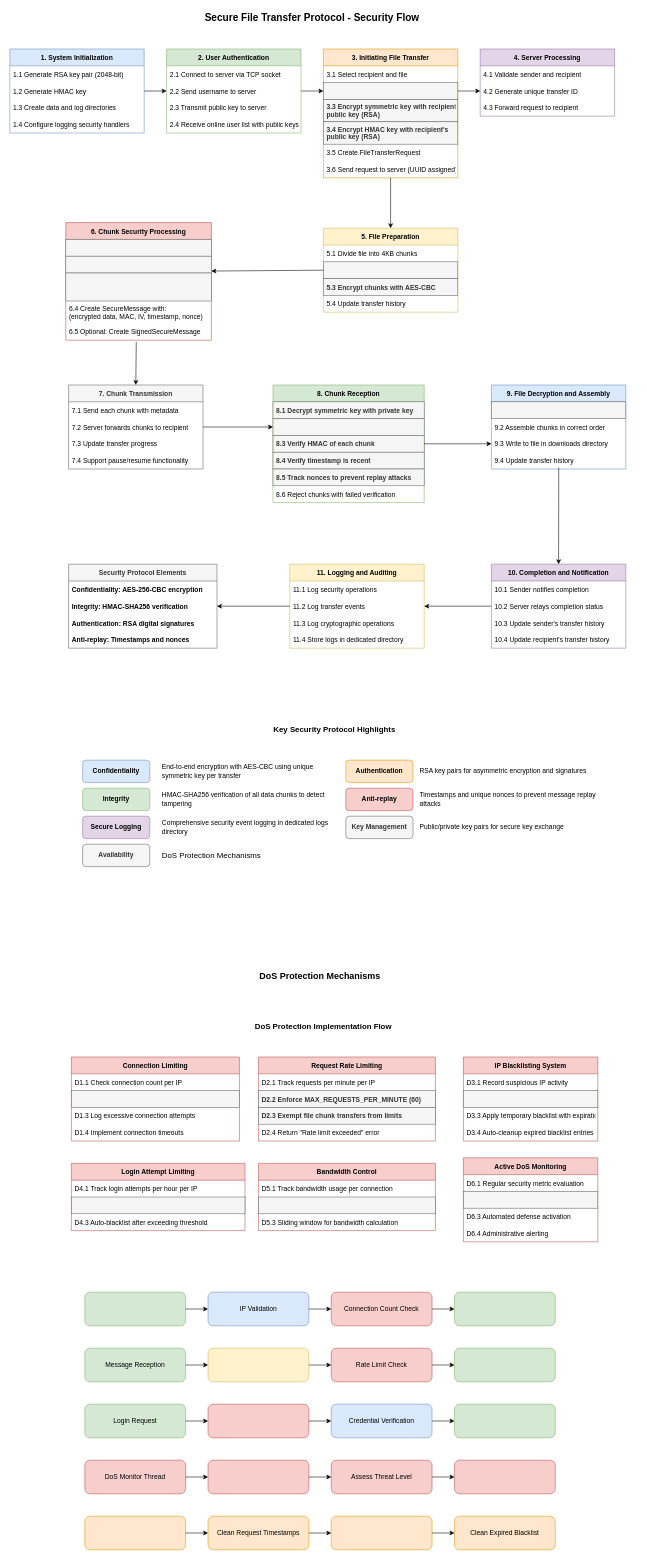
Image size: 647x1560. Some labels were removed from this diagram. The centre of each missing label's shape, as x and y in pixels:
"3.2 Generate AES symmetric key" belongs at [390,90].
"5.2 Generate random IV for each chunk" belongs at [390,270].
"6.1 Generate timestamp for each chunk" belongs at [138,247].
"6.2 Generate unique nonce (UUID)" belongs at [138,264].
"6.3 Calculate HMAC over: (encrypted data + IV + timestamp + nonce)" belongs at [138,286].
"8.2 Decrypt HMAC key with private key" belongs at [348,426].
"9.1 Decrypt each chunk with AES-CBC using IV + symmetric key" belongs at [558,410].
"Apply Defense Measures" belongs at [504,1477].
"Chunk Transfer Check" belongs at [258,1365].
"Clean Login Attempts" belongs at [381,1533].
"Cleanup Thread" belongs at [135,1533].
"Collect Security Metrics" belongs at [258,1477].
"Connection Established" belongs at [504,1309].
"Connection Initialization" belongs at [135,1309].
"D1.2 Enforce MAX_CONNECTIONS_PER_IP" belongs at [155,1098].
"D3.2 Blacklist IPs after threshold violation" belongs at [530,1098].
"D4.2 Enforce MAX_LOGIN_ATTEMPTS_PER_HOUR" belongs at [158,1205].
"D5.2 Enforce BANDWIDTH_LIMIT_BYTES_PER_SEC" belongs at [346,1205].
"D6.2 Threshold-based threat level detection" belongs at [530,1199].
"Login Attempt Limit Check" belongs at [258,1421].
"Message Processing" belongs at [504,1365].
"Session Establishment" belongs at [504,1421].
